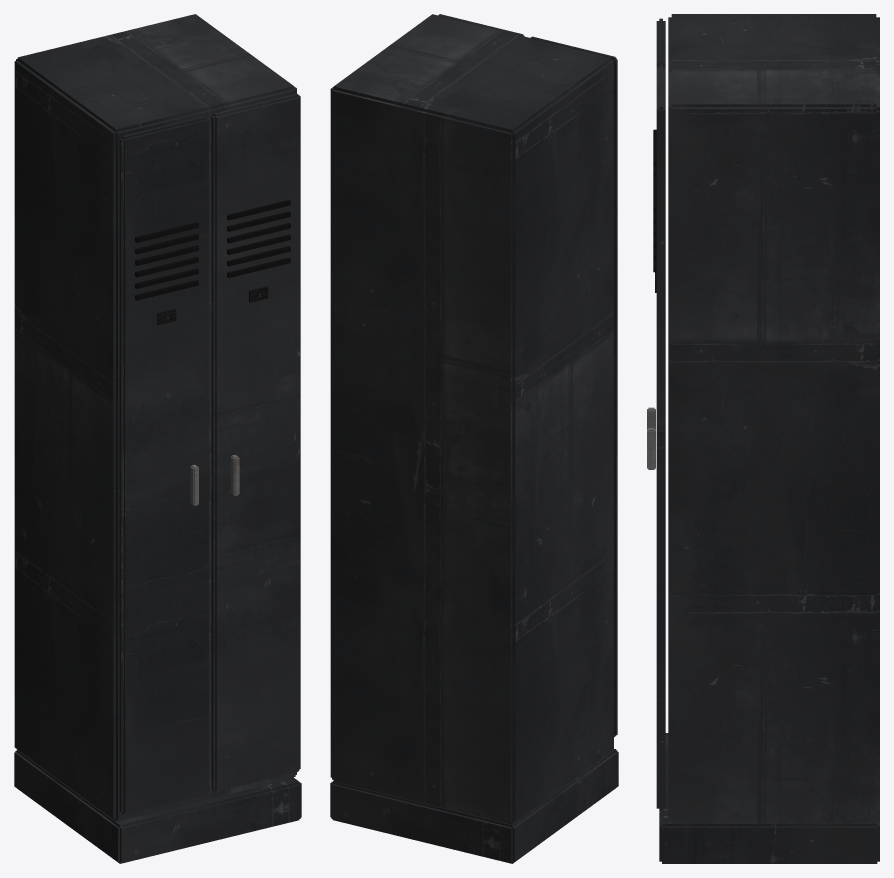
The model's file is locker_tall.gltf.
The picture shows the model from 3 angles, left to right: view 1: azimuth 30°, elevation 25°; view 2: azimuth 150°, elevation 25°; view 3: azimuth 270°, elevation 25°; orthographic projection. The views are drawn at different scales.
Visible parts, largest first — view 1: Body, Door2, Door1; view 2: Body, Door1; view 3: Body, Door2, Door1.
Part boxes in pixels (x1,y1,x2,y2): Body: (14,14,301,863); Door2: (211,93,300,791); Door1: (119,116,208,814); Body: (330,14,618,863); Door1: (530,36,617,736); Body: (659,14,879,863); Door2: (647,65,665,810); Door1: (647,18,665,429).
Bounding box in the file's own units: 0.5 × 1.9 × 0.528.
5 materials, 5 textured.
